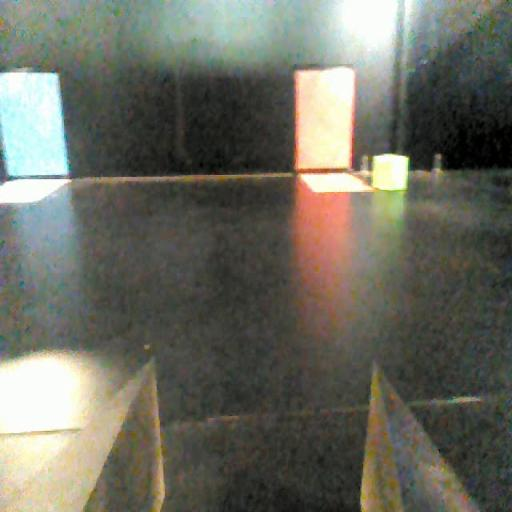cube: (372, 150, 410, 200)
